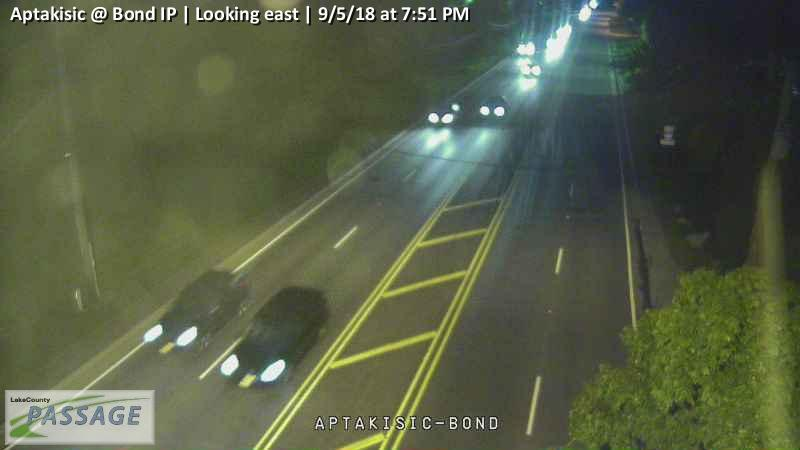Sedan: (219, 285, 328, 389), (141, 271, 255, 355), (425, 98, 464, 126), (477, 95, 513, 122), (516, 32, 538, 55), (520, 58, 545, 77)
